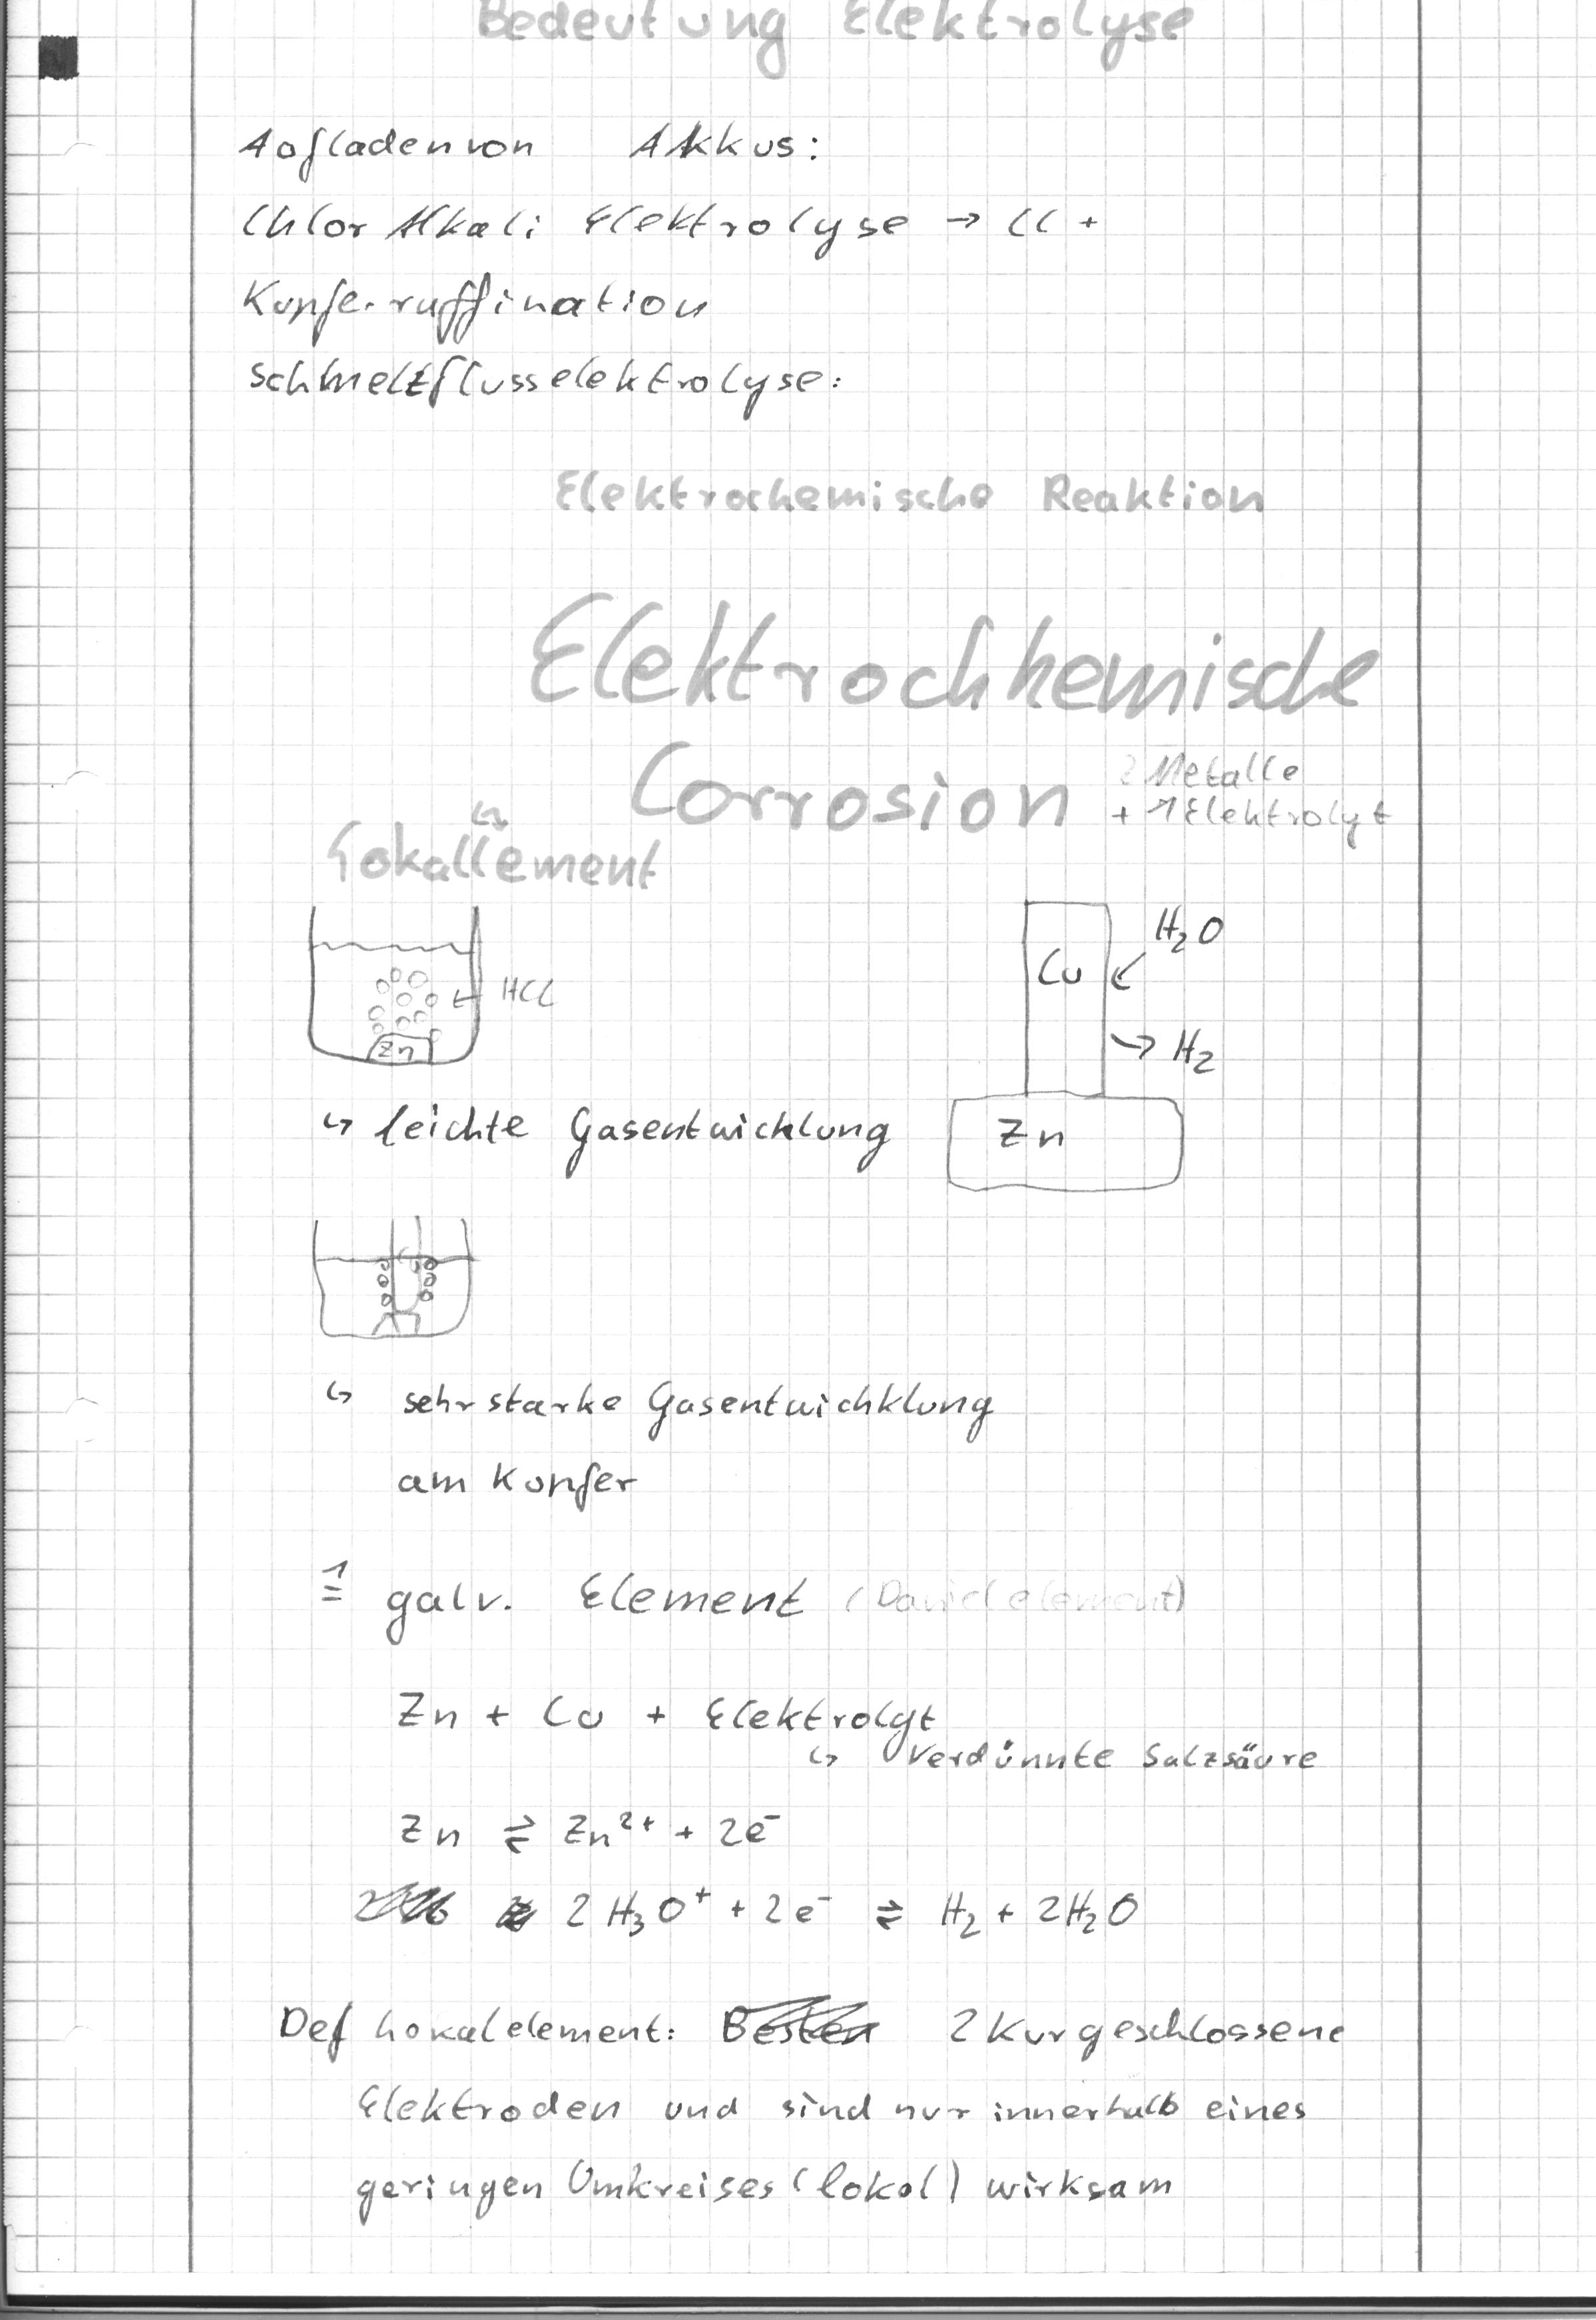word: (229, 105, 1111, 437), (373, 1562, 1323, 1862), (271, 1986, 1356, 2242), (305, 1360, 997, 1518), (342, 1866, 1163, 1957), (311, 1081, 908, 1201), (1015, 891, 1248, 1081), (959, 1071, 1103, 1178), (299, 1539, 376, 1625)
